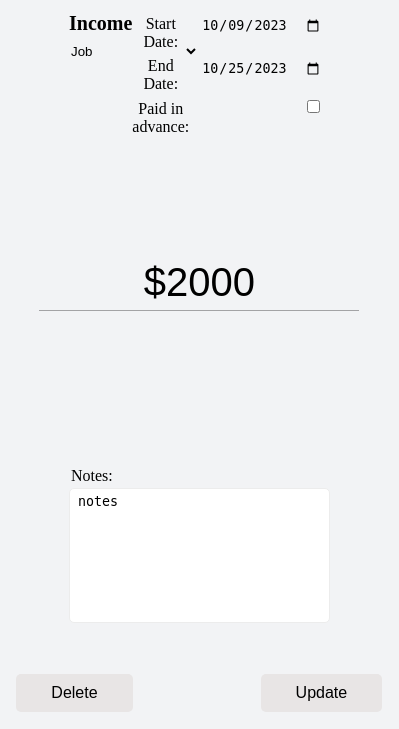
it: Transaction View Page › should handle empty amount change
Clear the field showing "$2000" at (199, 283), box [39, 255, 359, 311]
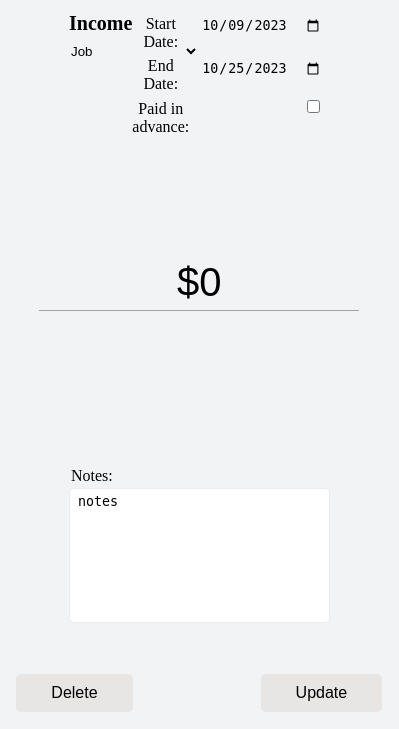
Expected: the field showing "$0" is shown, [39, 255, 359, 311]
